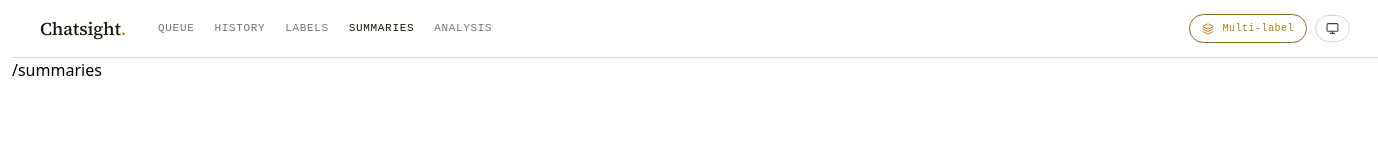
Test: clicking mode toggle from multi navigates to /run (single landing)
Expected: the text with test id "path" reads "/summaries", [12,59,102,81]
Click the button titled "Mode: Multi-label".
click(1248, 28)  # box [1190,14,1307,43]
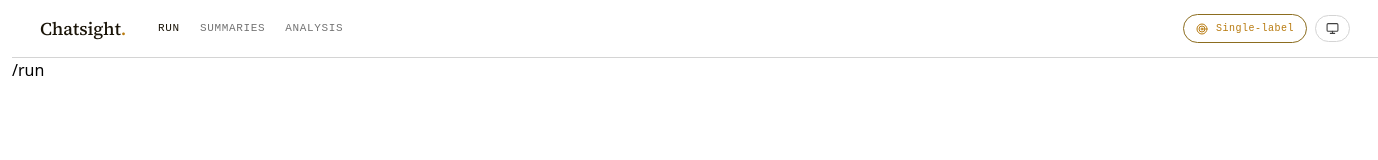
Expected: the text with test id "path" reads "/run", [12,59,44,81]
